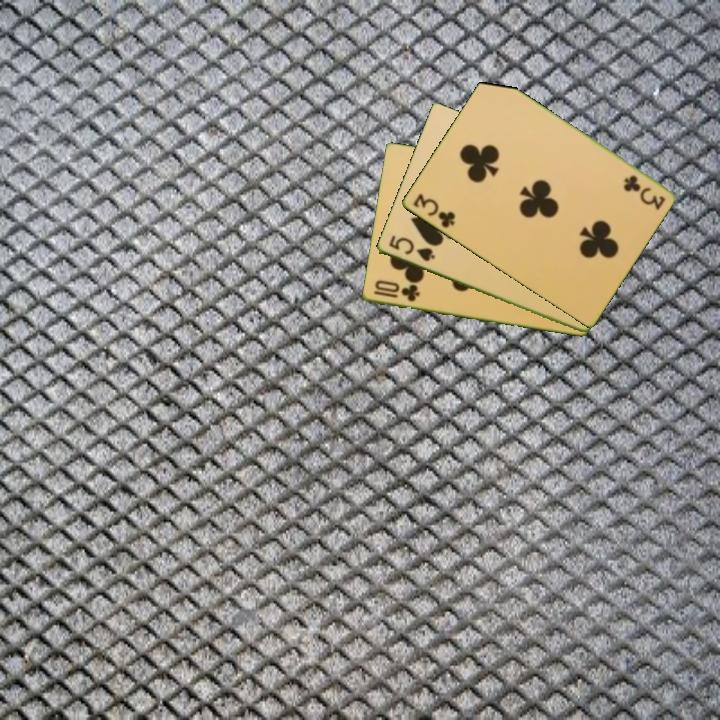10c: (370, 277, 422, 305)
3c: (409, 190, 458, 231), (620, 171, 668, 212)
5s: (385, 232, 438, 265)
